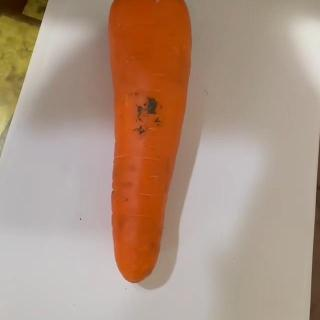carrot: (104, 0, 194, 286)
